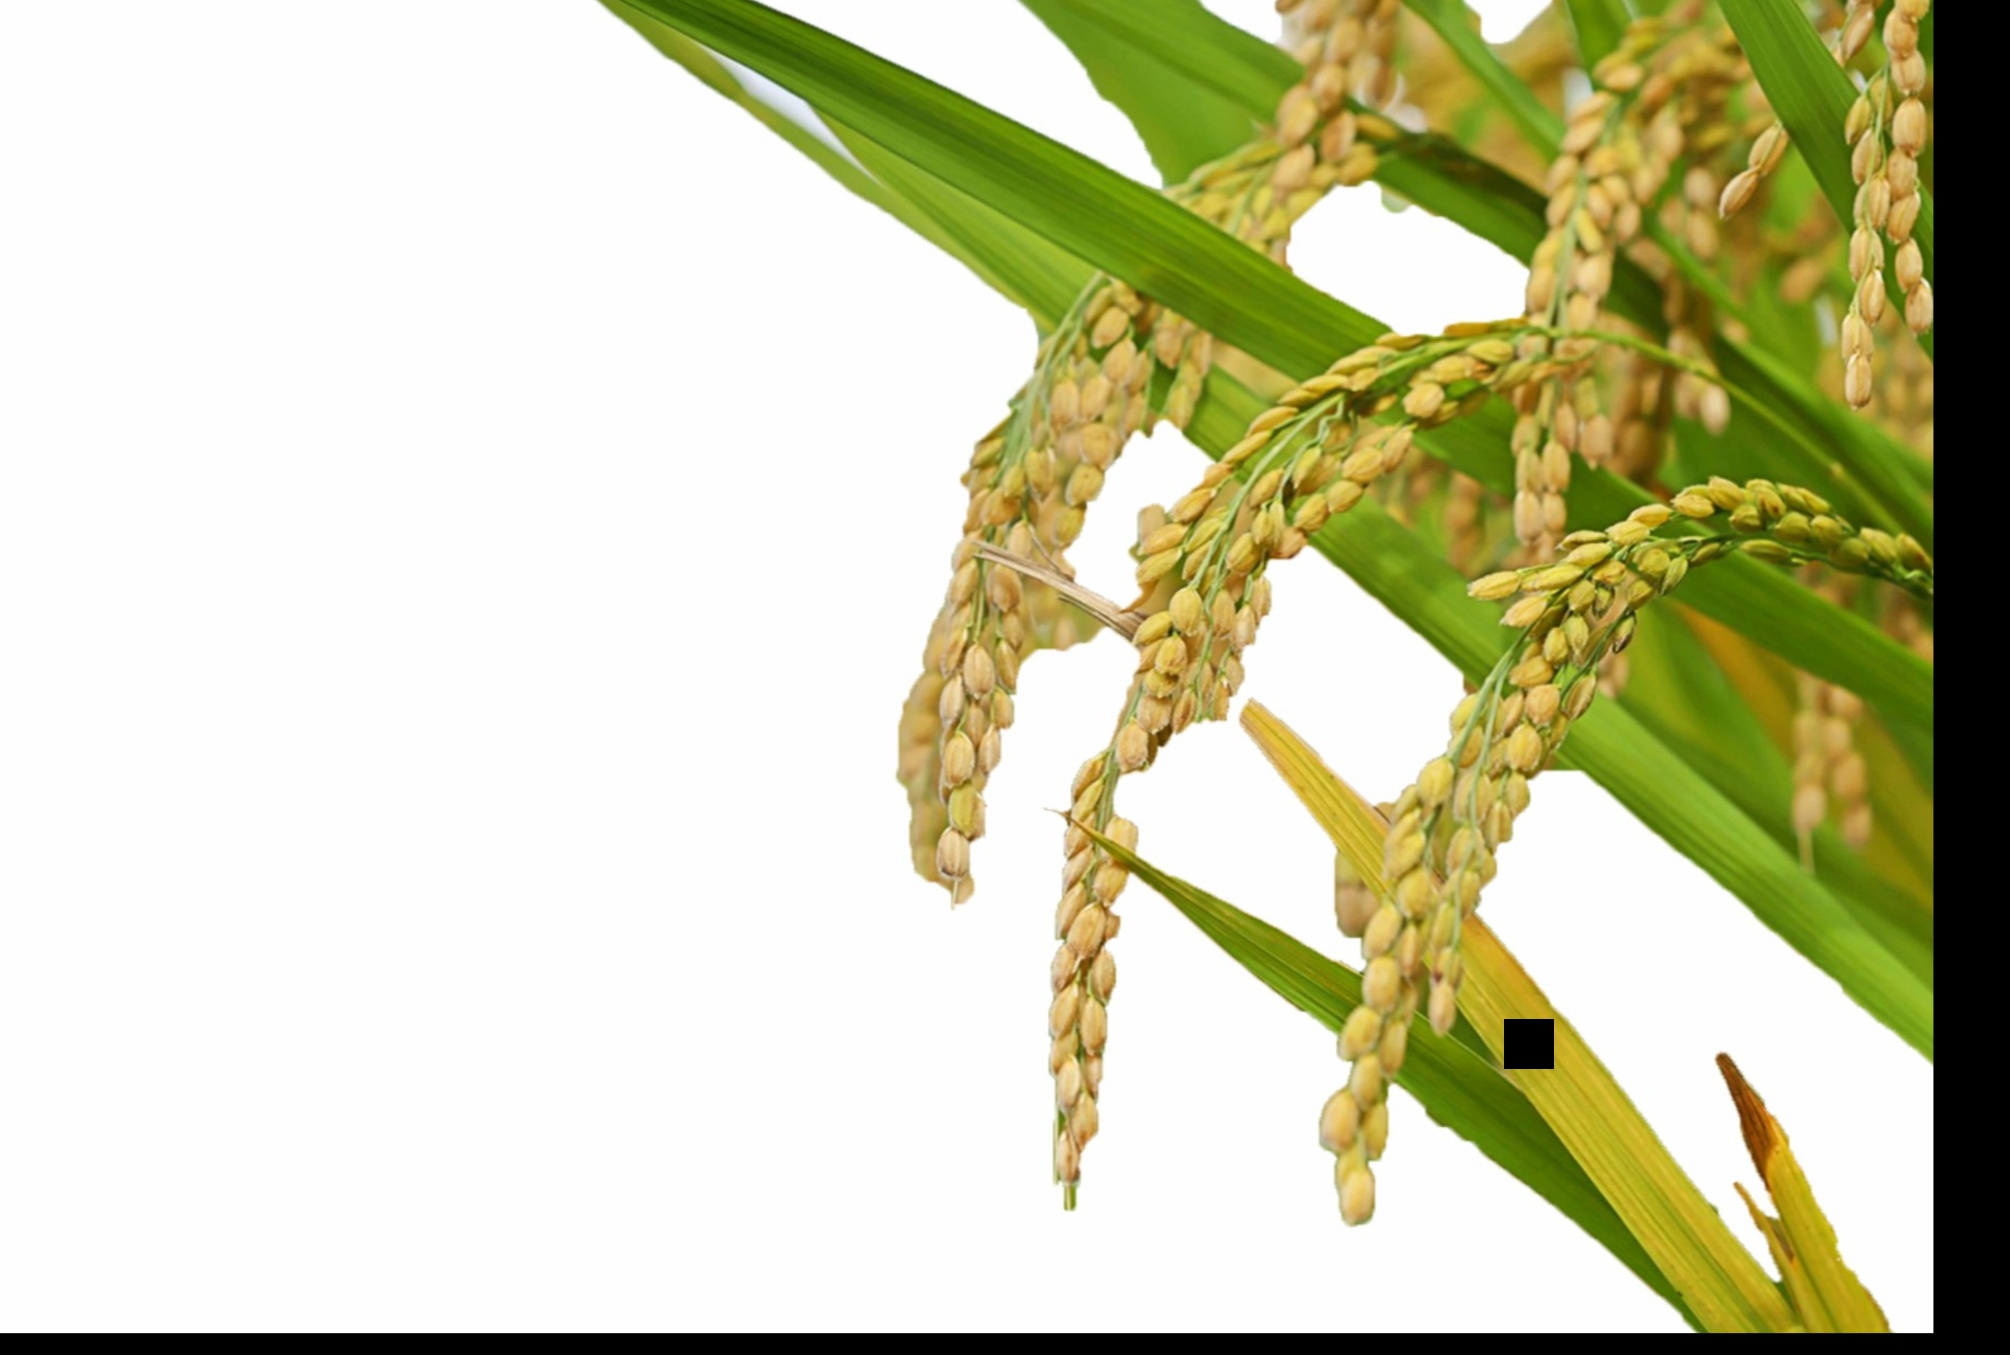rice: (1068, 281, 1770, 1198), (1334, 472, 1919, 1251), (888, 106, 1320, 888)
